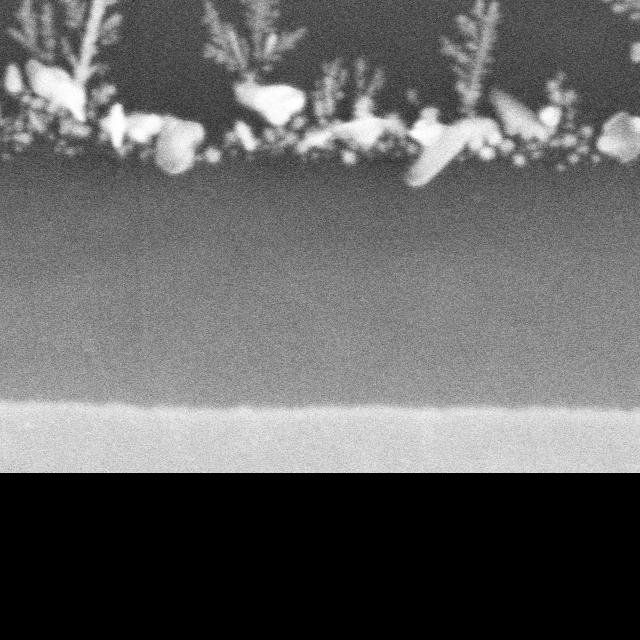Dendrite: (0, 0, 218, 175), (406, 0, 513, 185), (203, 0, 307, 154), (295, 58, 421, 164), (487, 72, 603, 167)
